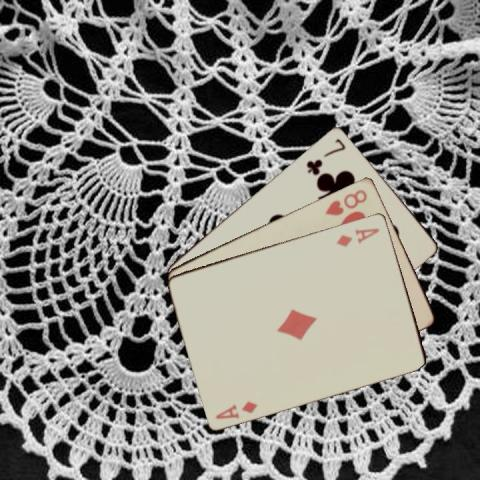7c: (303, 135, 347, 175)
8h: (322, 186, 369, 217)
Ad: (212, 397, 260, 421), (333, 225, 382, 248)
